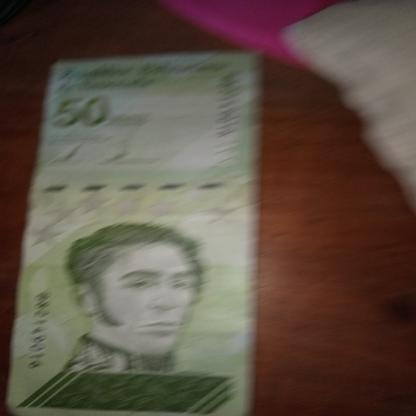vef_front: (7, 54, 262, 416)
